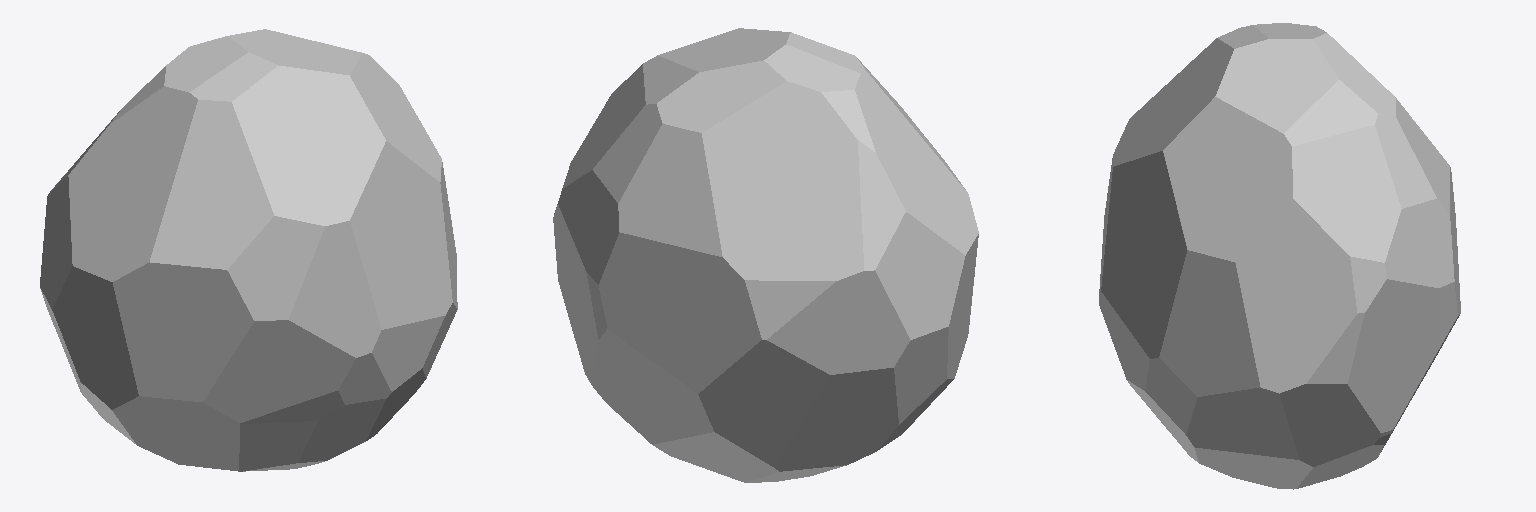
Rendered from smallStone6.obj.
3 renders of one model, left to right at view 1: azimuth 30°, elevation 25°; view 2: azimuth 150°, elevation 25°; view 3: azimuth 270°, elevation 25°, orthographic.
Visible parts, largest first — view 1: Sphere_001; view 2: Sphere_001; view 3: Sphere_001.
Boxes of the visible parts, x1,y1,x2,y2 form: Sphere_001: [40, 29, 457, 471]; Sphere_001: [553, 28, 978, 482]; Sphere_001: [1099, 23, 1460, 489].
Size of the model in its own units: 56 by 58.66 by 45.67.